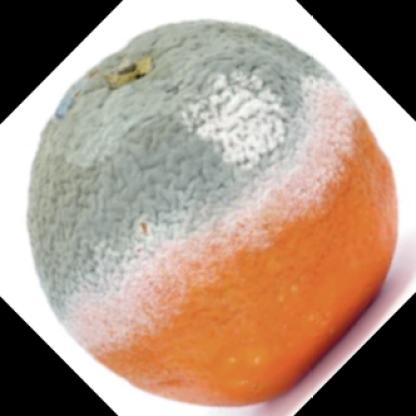rotten: (29, 22, 395, 403)
